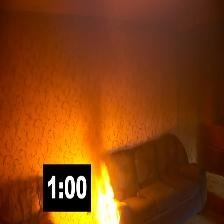fire: (92, 171, 117, 224)
